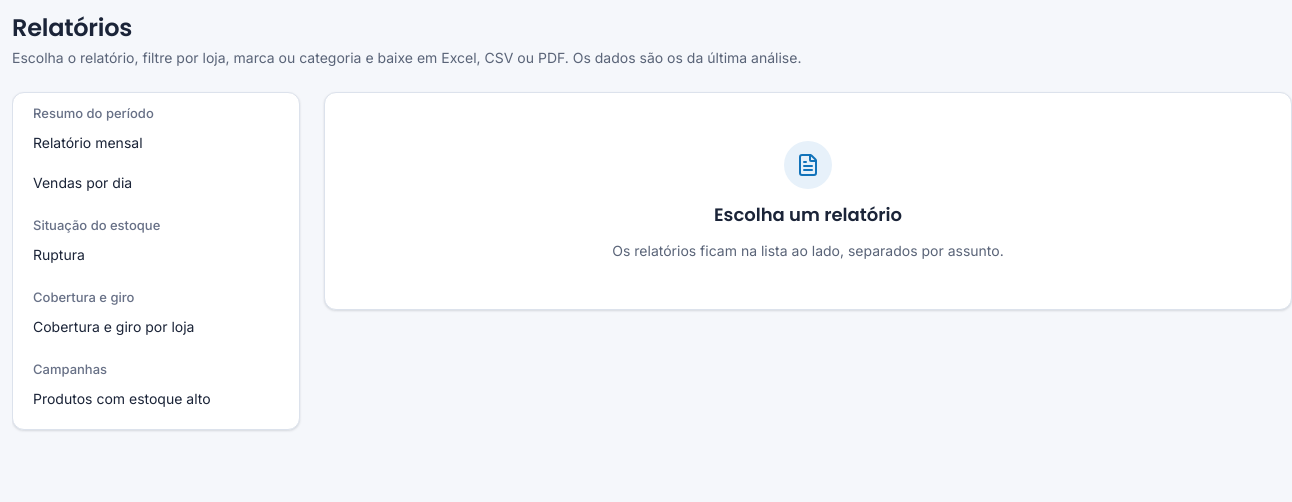
Test: Relatórios › lista os relatórios por assunto e mostra a prévia com aviso de linhas
Expected: the text "Situação do estoque" is shown, top-left (33, 217), bottom-right (160, 233)
Click the button "Ruptura" at (59, 254), box top-left (25, 237), bottom-right (287, 273)
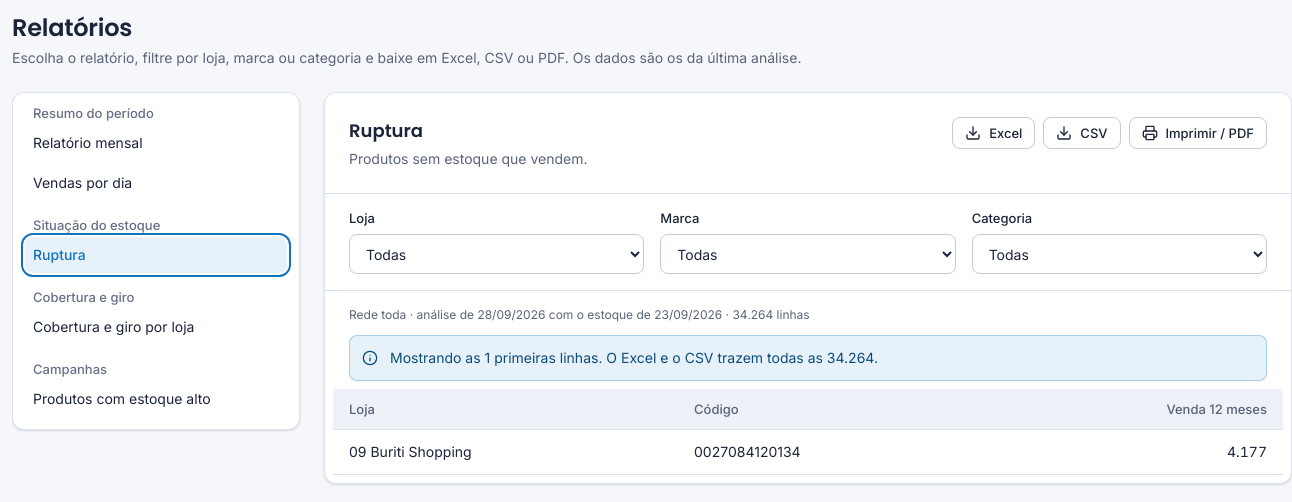
Now the text "0027084120134" is shown, box top-left (678, 430), bottom-right (987, 474)
Now the text "4.177" is shown, box top-left (987, 430), bottom-right (1283, 474)
Now the text "O Excel e o CSV trazem todas as 34.264" is shown, box top-left (390, 348), bottom-right (878, 368)
